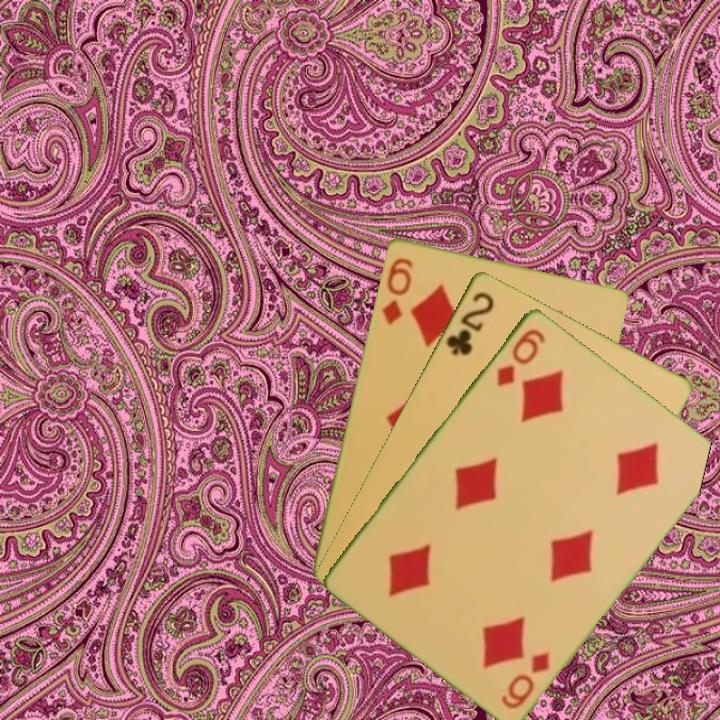2c: (442, 287, 497, 358)
6d: (493, 324, 549, 389), (497, 647, 553, 712), (378, 253, 416, 327)
